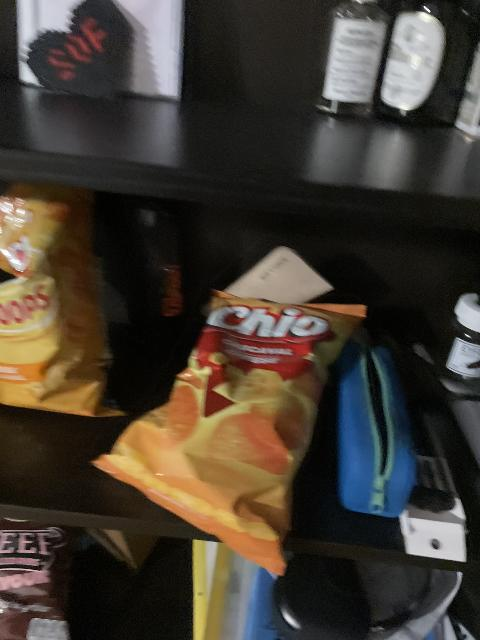Chio Cascaval 125g: (91, 293, 363, 576)
Chio Hula Hoops Cheese 70g: (0, 183, 120, 409)
Lays Beef Grilled Ribs 125g: (0, 511, 73, 637)
